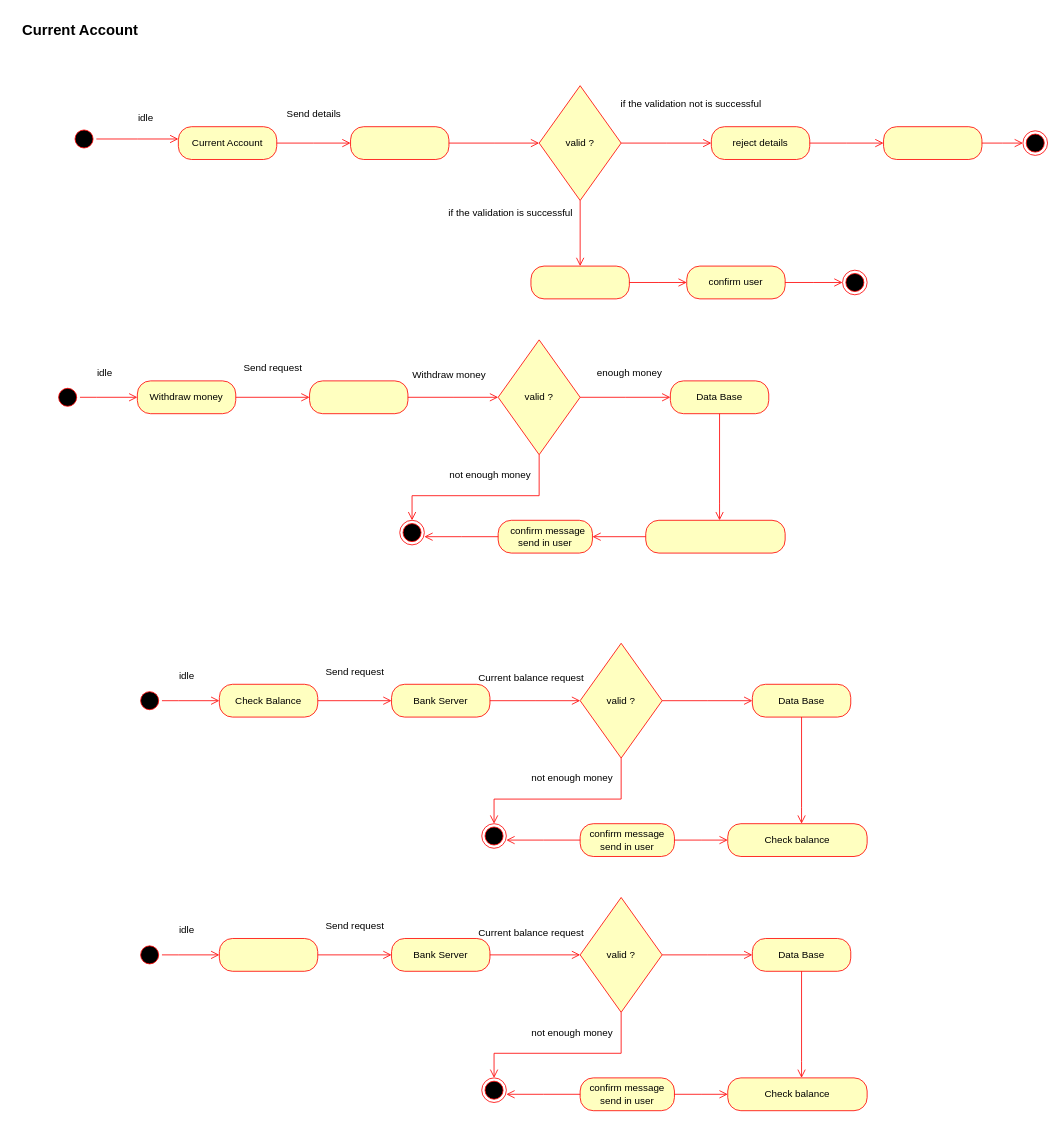
Image size: 1062x1125. Some labels were removed from this diagram. The centre of each missing label's shape, as x and y in pixels:
"Bank" goes at (358,397).
"convey message" goes at (932,142).
"Create Account details" goes at (579,282).
"Money take it sent to message user" goes at (715,536).
"Validate details" goes at (399,142).
